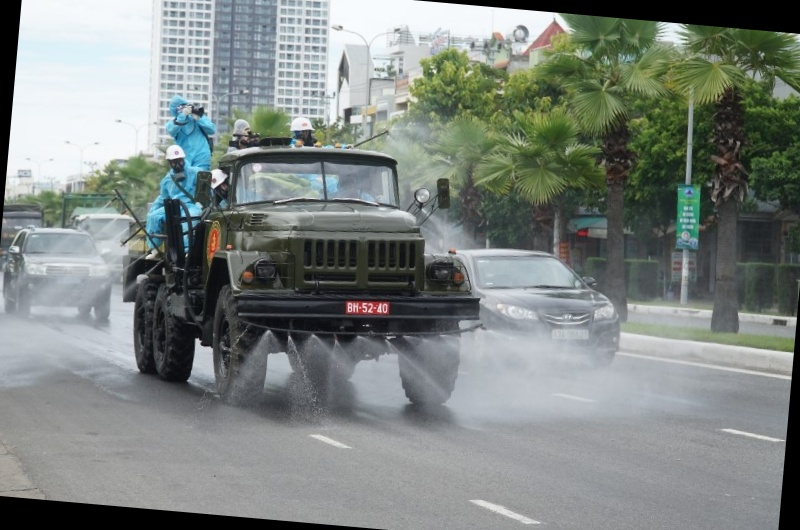plate: (344, 298, 389, 314), (553, 326, 593, 344)
